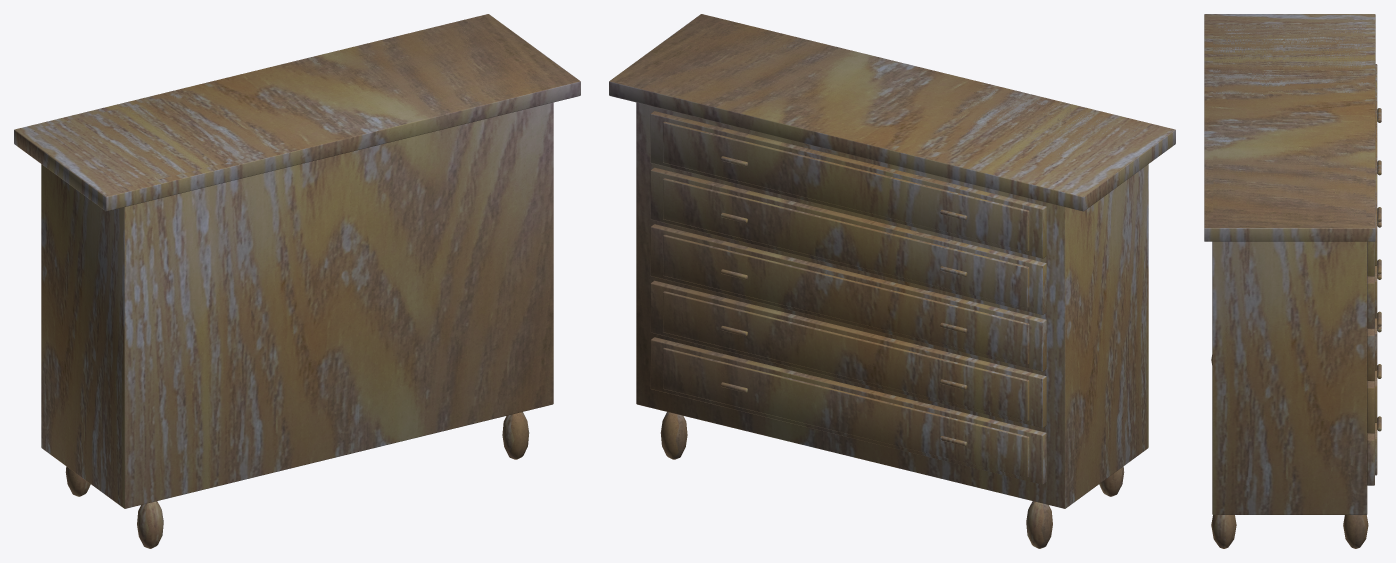
The model's file is Antique_Chest_10.fbx.
3 renders of one model, left to right at view 1: azimuth 30°, elevation 25°; view 2: azimuth 150°, elevation 25°; view 3: azimuth 270°, elevation 25°, orthographic. The views are drawn at different scales.
Visible parts, largest first — view 1: Antique_Chest; view 2: Antique_Chest; view 3: Antique_Chest.
Boxes of the visible parts, x1,y1,x2,y2 form: Antique_Chest: (14,14,580,548); Antique_Chest: (609,14,1175,548); Antique_Chest: (1204,14,1381,548).
Bounding box in the file's own units: 1.66 × 1.25 × 0.5819.
1 material, 1 textured.
